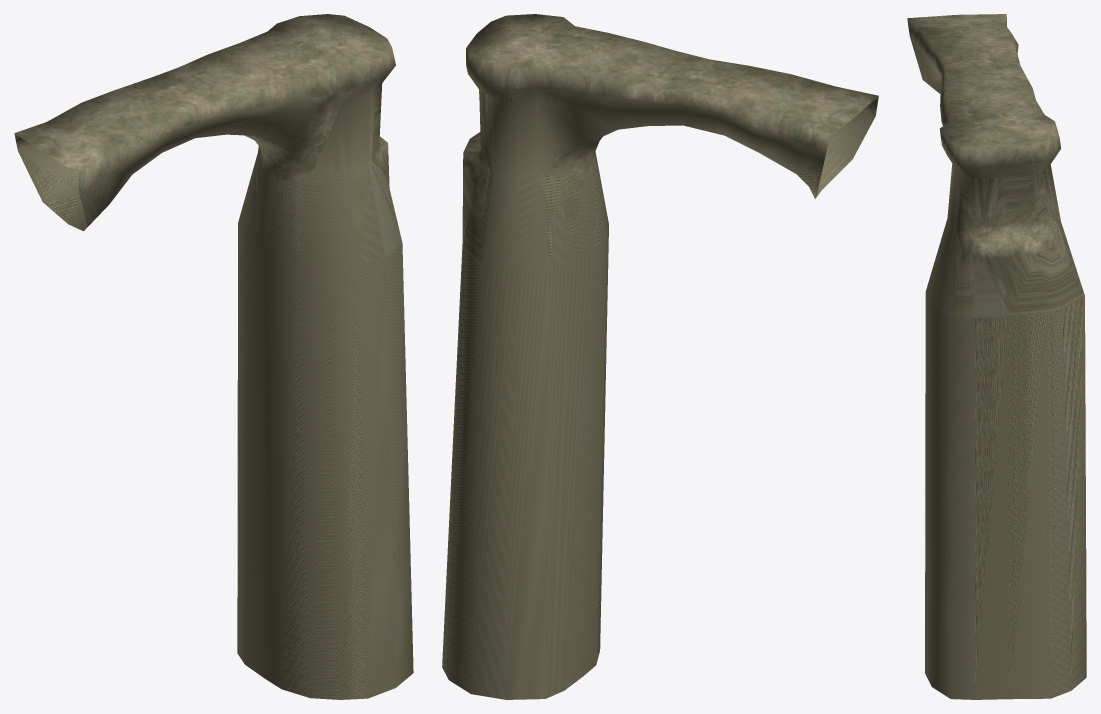
The model's file is OVERHILL_A_01_LINE170.fbx.
The picture shows the model from 3 angles, left to right: view 1: azimuth 30°, elevation 25°; view 2: azimuth 150°, elevation 25°; view 3: azimuth 270°, elevation 25°; orthographic projection. The views are drawn at different scales.
Visible parts, largest first — view 1: OVERHILL_A_01_LINE170; view 2: OVERHILL_A_01_LINE170; view 3: OVERHILL_A_01_LINE170.
Part boxes in pixels (box(x1,y1,x2,y2)): OVERHILL_A_01_LINE170: box(14, 14, 413, 699); OVERHILL_A_01_LINE170: box(442, 14, 878, 699); OVERHILL_A_01_LINE170: box(907, 14, 1086, 699).
Size of the model in its own units: 84649 by 137940 by 40854.
1 material, 1 textured.
